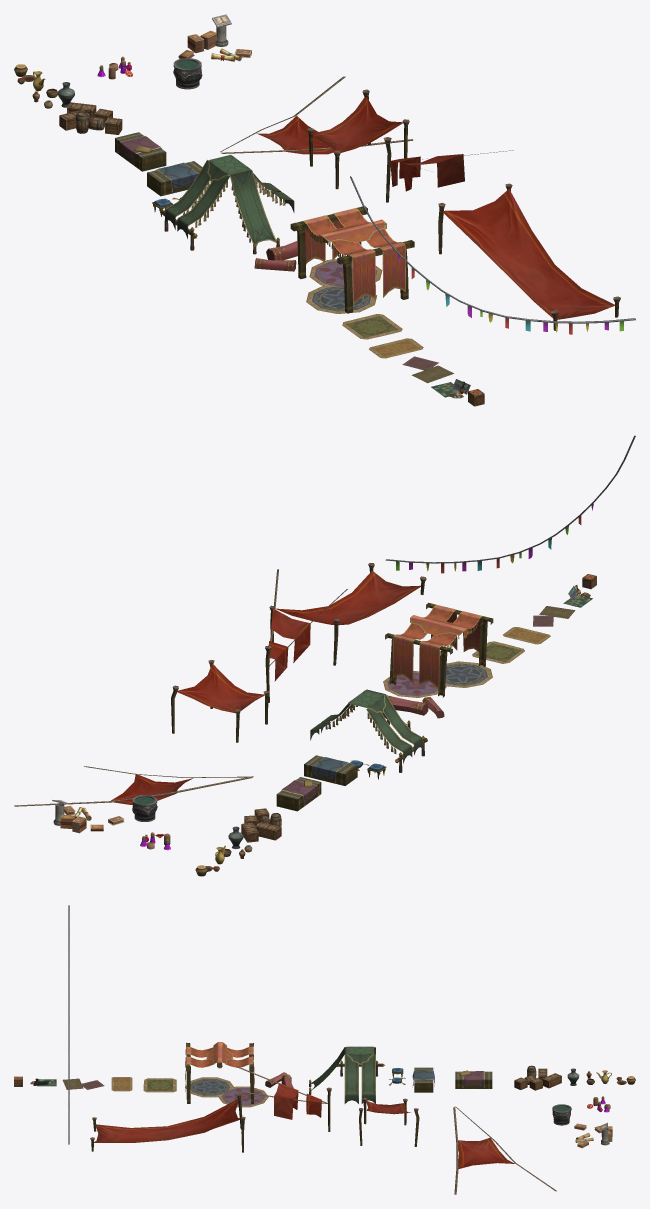
The model's file is d_1001_deco02.FBX.
3 renders of one model, top to bottom at view 1: azimuth 30°, elevation 25°; view 2: azimuth 150°, elevation 25°; view 3: azimuth 270°, elevation 25°, orthographic. The views are drawn at different scales.
Visible parts, largest first — view 1: d_1001_deco_j30, d_1001_deco_j16, d_1001_deco_j13, d_1001_deco_j28, d_1001_deco_j29, d_1001_deco_j27, d_1001_deco_j33, d_1001_deco_j09, d_1001_deco_j10, d_1001_deco_j17, d_1001_deco_j19, f_1001_tools03 (+6 smaller); view 2: d_1001_deco_j16, d_1001_deco_j30, d_1001_deco_j13, d_1001_deco_j28, d_1001_deco_j29, d_1001_deco_j27, d_1001_deco_j10, d_1001_deco_j33, d_1001_deco_j09, d_1001_deco_j17, d_1001_deco_j18, f_1001_tools03 (+4 smaller); view 3: d_1001_deco_j30, d_1001_deco_j13, d_1001_deco_j16, d_1001_deco_j27, d_1001_deco_j29, d_1001_deco_j28, d_1001_deco_j17, d_1001_deco_j09, d_1001_deco_j18, d_1001_deco_j10, d_1001_deco_j19, d_1001_deco_j33 (+1 smaller).
Boxes of the visible parts, x1,y1,x2,y2 form: d_1001_deco_j30: [438, 183, 620, 330]; d_1001_deco_j16: [290, 206, 414, 313]; d_1001_deco_j13: [165, 155, 294, 254]; d_1001_deco_j28: [307, 89, 409, 189]; d_1001_deco_j29: [383, 137, 513, 202]; d_1001_deco_j27: [220, 76, 413, 154]; d_1001_deco_j33: [350, 176, 635, 334]; d_1001_deco_j09: [115, 132, 166, 171]; d_1001_deco_j10: [147, 161, 202, 196]; d_1001_deco_j17: [306, 285, 376, 313]; d_1001_deco_j19: [342, 314, 402, 339]; f_1001_tools03: [178, 30, 251, 61]; d_1001_deco_j16: [385, 602, 493, 697]; d_1001_deco_j30: [269, 563, 426, 665]; d_1001_deco_j13: [310, 689, 423, 763]; d_1001_deco_j28: [171, 660, 269, 742]; d_1001_deco_j29: [265, 569, 347, 702]; d_1001_deco_j27: [14, 766, 253, 806]; d_1001_deco_j10: [304, 755, 357, 785]; d_1001_deco_j33: [385, 435, 635, 573]; d_1001_deco_j09: [276, 777, 321, 811]; d_1001_deco_j17: [445, 661, 492, 687]; d_1001_deco_j18: [383, 671, 446, 697]; f_1001_tools03: [60, 805, 124, 833]; d_1001_deco_j30: [90, 1093, 245, 1152]; d_1001_deco_j13: [309, 1046, 375, 1103]; d_1001_deco_j16: [185, 1042, 254, 1103]; d_1001_deco_j27: [453, 1106, 556, 1194]; d_1001_deco_j29: [235, 1065, 331, 1131]; d_1001_deco_j28: [359, 1097, 419, 1146]; d_1001_deco_j17: [185, 1077, 233, 1097]; d_1001_deco_j09: [455, 1070, 492, 1088]; d_1001_deco_j18: [218, 1086, 268, 1107]; d_1001_deco_j10: [412, 1067, 434, 1092]; d_1001_deco_j19: [143, 1078, 176, 1092]; d_1001_deco_j33: [68, 905, 69, 1144].
Bounding box in the file's own units: 2361 × 1628 × 5271.
1 material, 1 textured.
